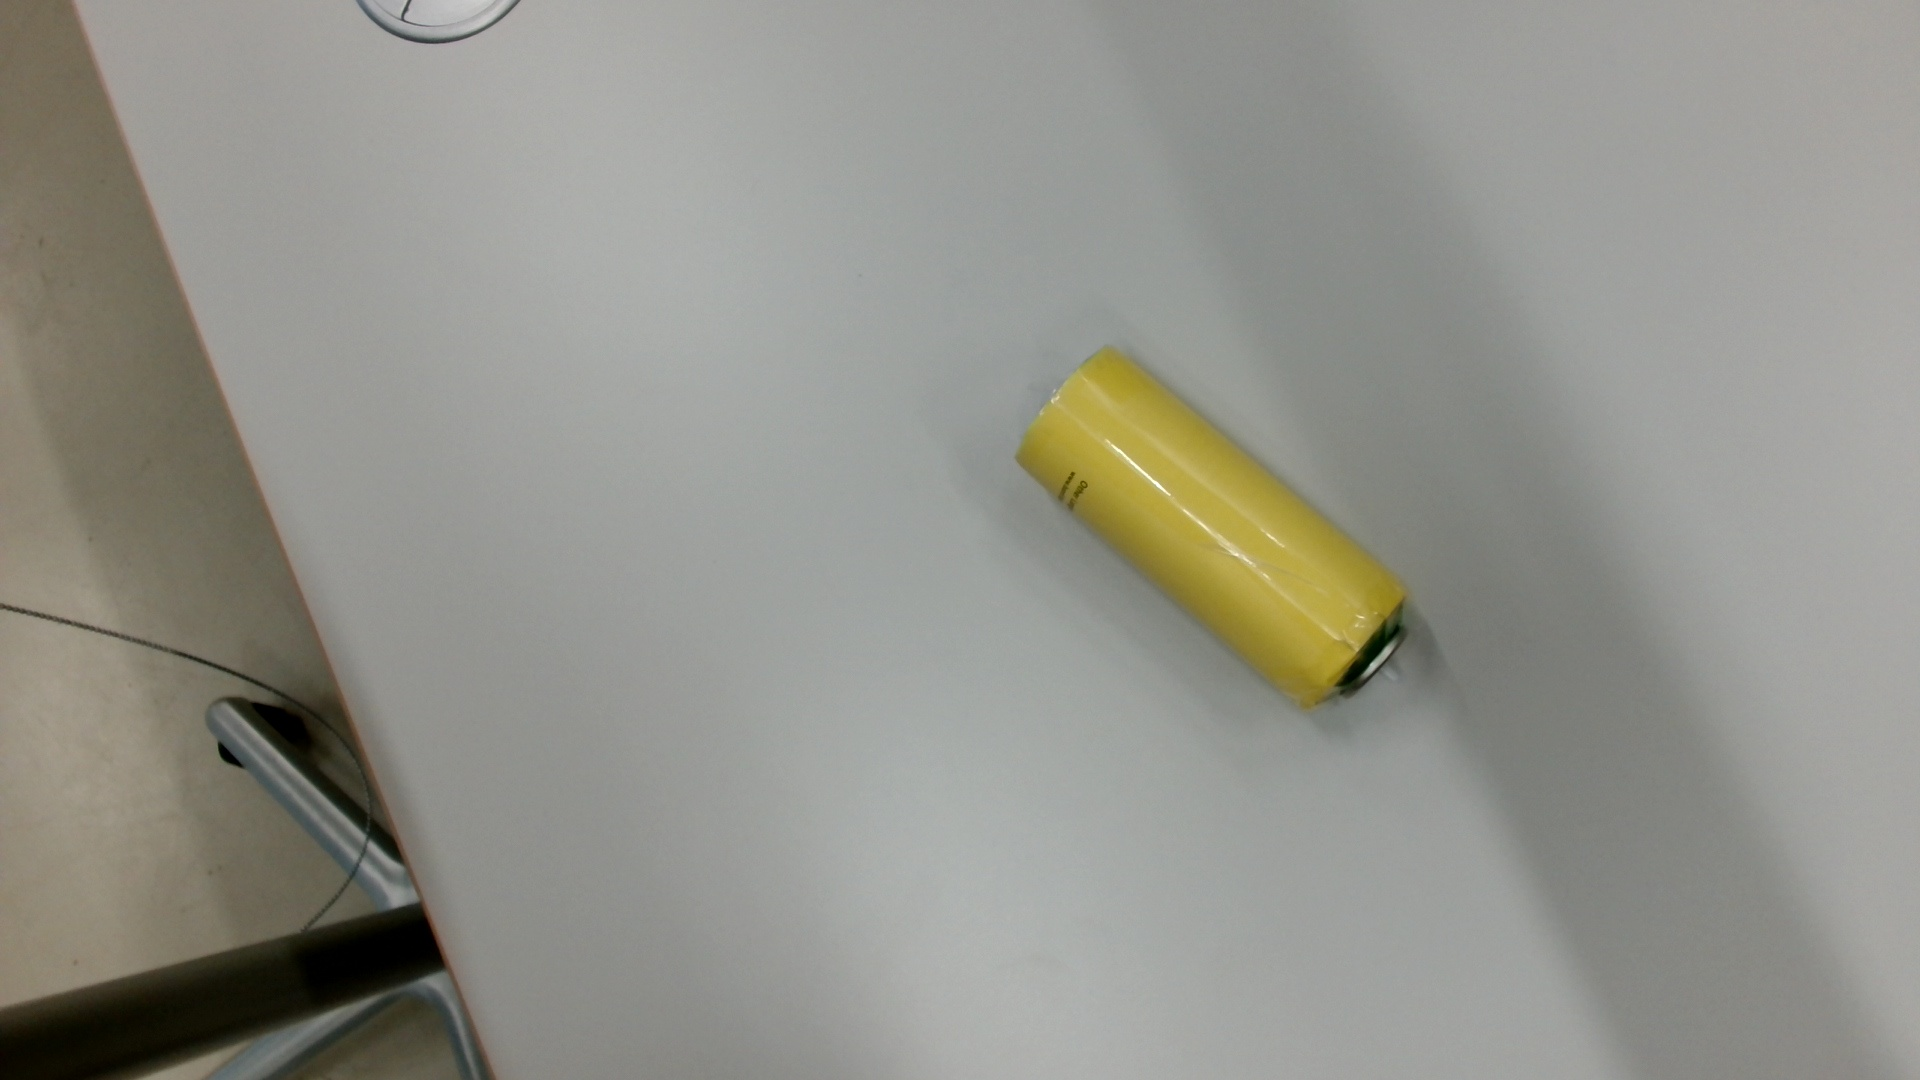Cylinder: (1007, 334, 1427, 719)
